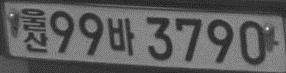0: (238, 19, 267, 65)
3: (145, 16, 172, 60)
7: (174, 17, 202, 61)
9: (205, 18, 235, 63), (77, 11, 104, 55), (49, 9, 75, 53)
바: (106, 17, 135, 56)
울산_V: (20, 8, 48, 52)
